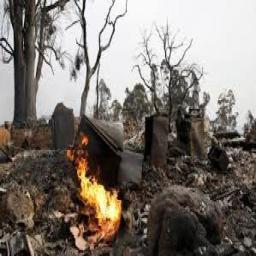Small fire: (54, 140, 130, 244)
